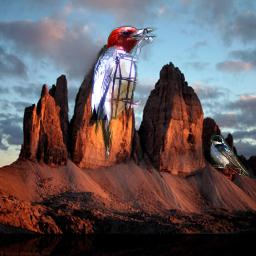Swallow: (210, 135, 249, 179)
Woodpecker: (89, 25, 159, 161)
